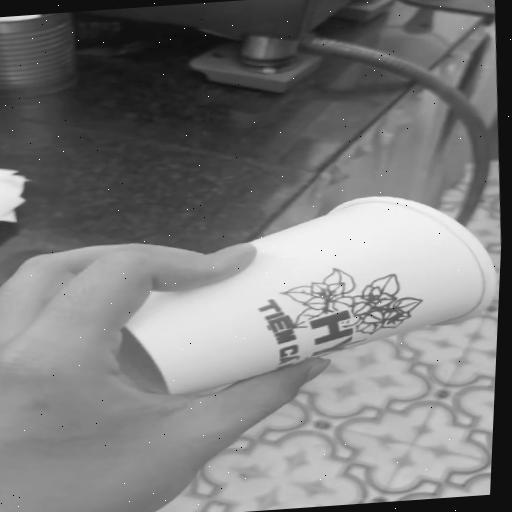Ly_giay: (125, 197, 495, 394)
